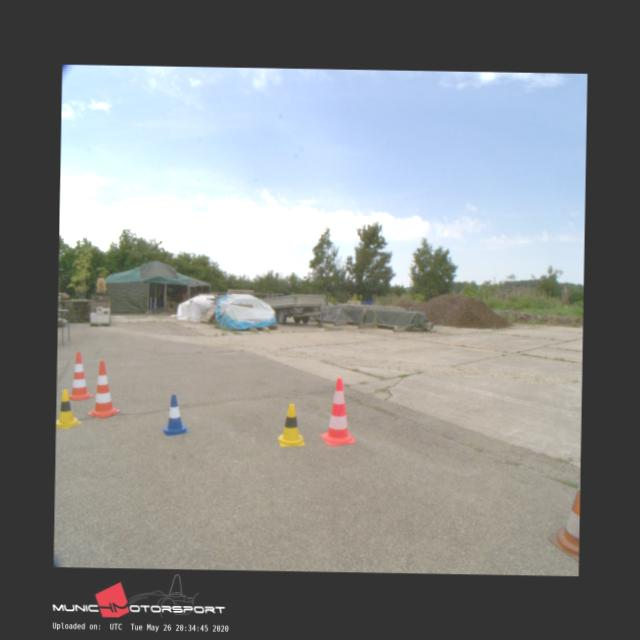blue_cone: (162, 394, 188, 435)
large_orange_cone: (320, 377, 356, 445), (87, 359, 120, 416), (66, 350, 92, 400)
yellow_cone: (276, 402, 305, 446), (56, 388, 82, 428)
